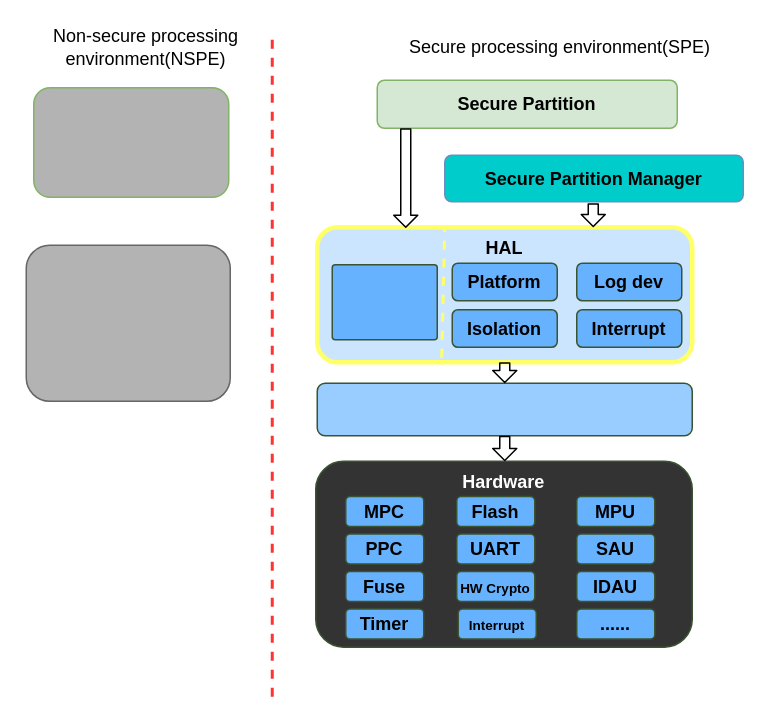
This 770x726 diagram has some shape labels left out. The centre of each missing label's shape, as x and y in pixels:
"APP" belongs at [130,141].
"Library / OS Kernel" belongs at [127,322].
"Platform Source" belongs at [504,409].
"SP Peripherals" belongs at [384,301].
